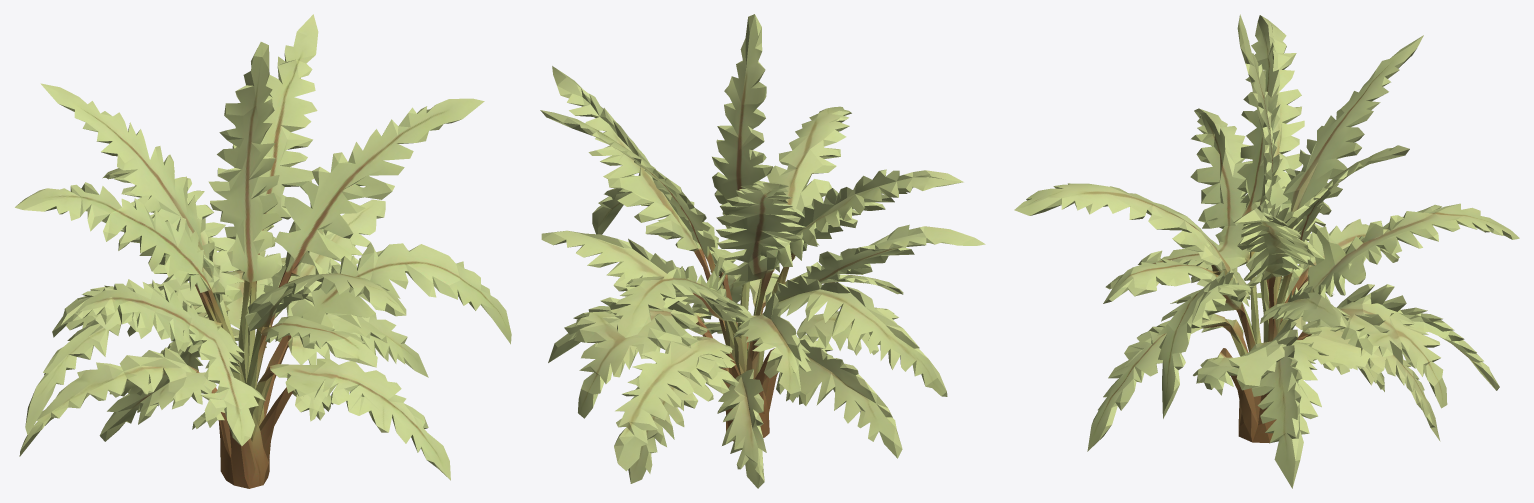
3 views of the same model, side by side, from view 1: azimuth 30°, elevation 25°; view 2: azimuth 150°, elevation 25°; view 3: azimuth 270°, elevation 25° (orthographic). The views are drawn at different scales.
Parts seen in each view (by area): view 1: Mesh; view 2: Mesh; view 3: Mesh.
Part boxes in pixels (left/top/right/bottom): Mesh: left=15, top=14, right=511, bottom=488; Mesh: left=540, top=14, right=985, bottom=488; Mesh: left=1014, top=14, right=1519, bottom=488.
Bounding box in the file's own units: 1.83 × 1.7 × 1.85.
Materials: 1 (1 with a texture image).
